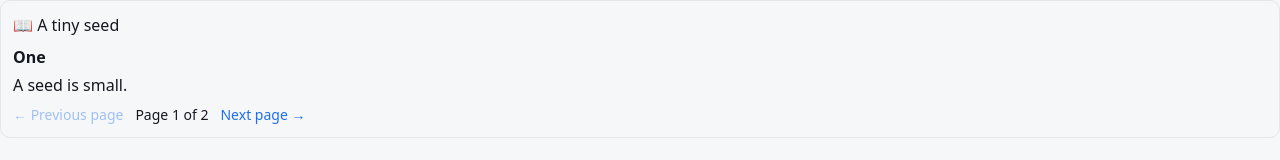
Scenario: reading blocks › in a lesson, the book is read one page at a time
Expected: the text "A seed is small." is shown, [13,74,127,96]
Expected: the text "It grows." is not shown
Click the button "Next page →" at (263, 115), box [220,105,306,125]
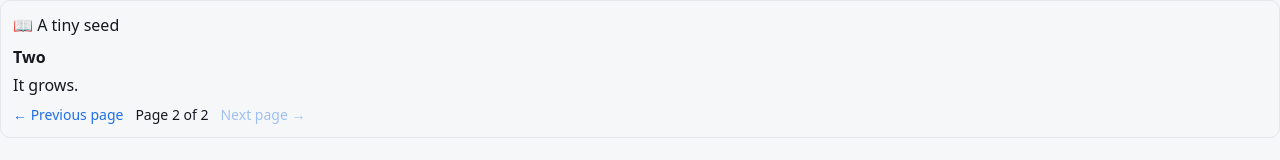
Now the text "It grows." is shown, box [13,74,78,96]
Now the text "A seed is small." is gone
Now the button "Next page →" is disabled, box [220,105,306,125]
